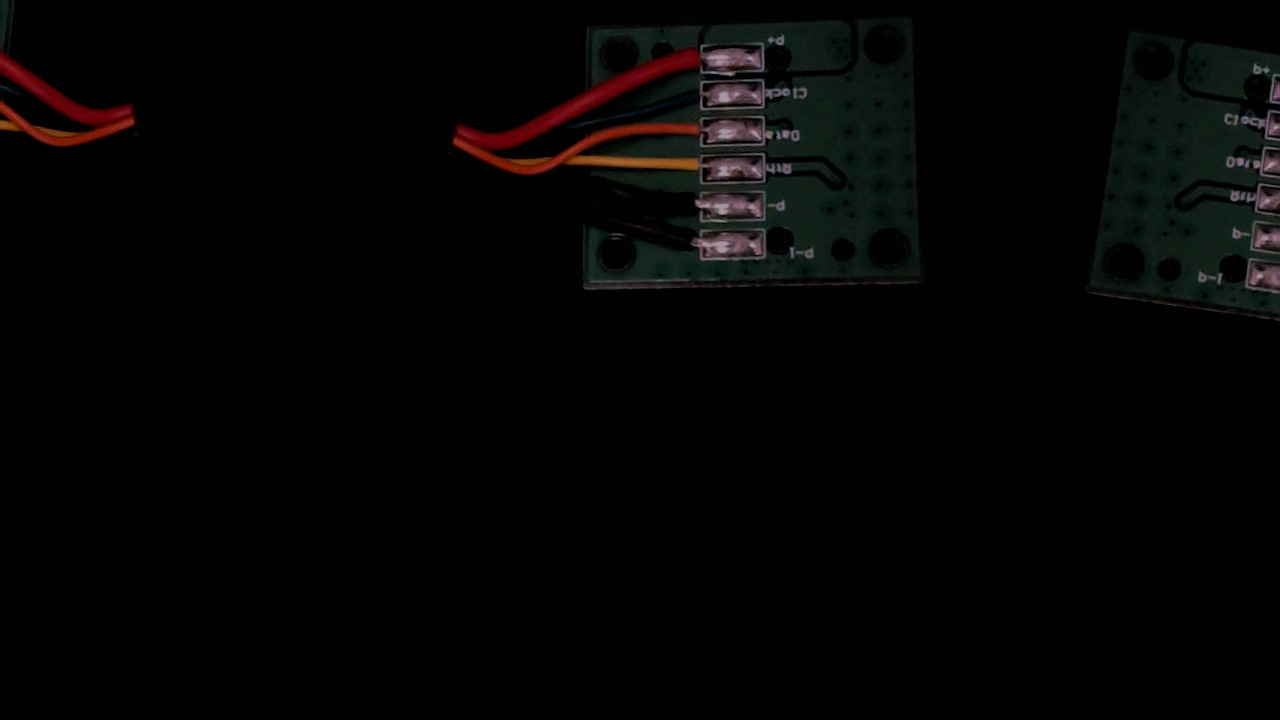Black: (652, 188, 717, 219)
Black1: (651, 225, 715, 260)
Green: (667, 75, 715, 116)
Orange: (661, 112, 716, 147)
Red: (670, 36, 717, 78)
Yellow: (659, 150, 718, 184)
